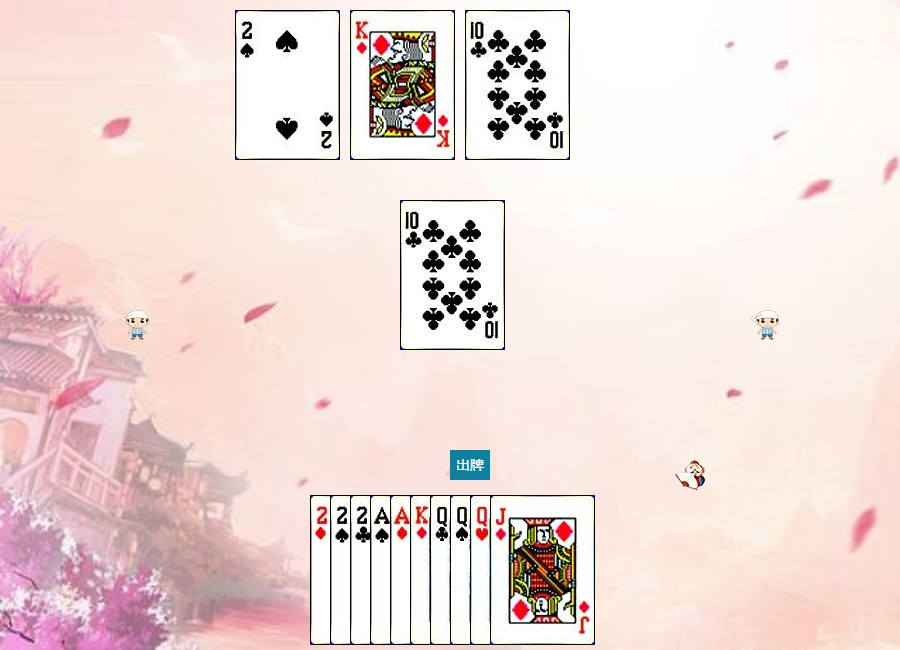10~2: (465, 10, 570, 160), (400, 200, 505, 350)
11~1: (490, 495, 595, 645)
12~2: (430, 495, 535, 645)
12~3: (470, 495, 575, 645)
12~4: (450, 495, 555, 645)
13~1: (350, 10, 455, 160), (410, 495, 515, 645)
14~1: (390, 495, 495, 645)
14~4: (370, 495, 475, 645)
15~1: (310, 495, 415, 645)
15~2: (350, 495, 455, 645)
15~4: (235, 10, 340, 160), (330, 495, 435, 645)
